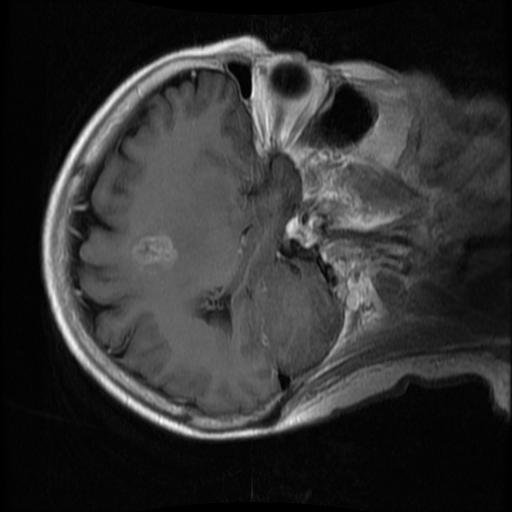glioma: (129, 234, 177, 275)
